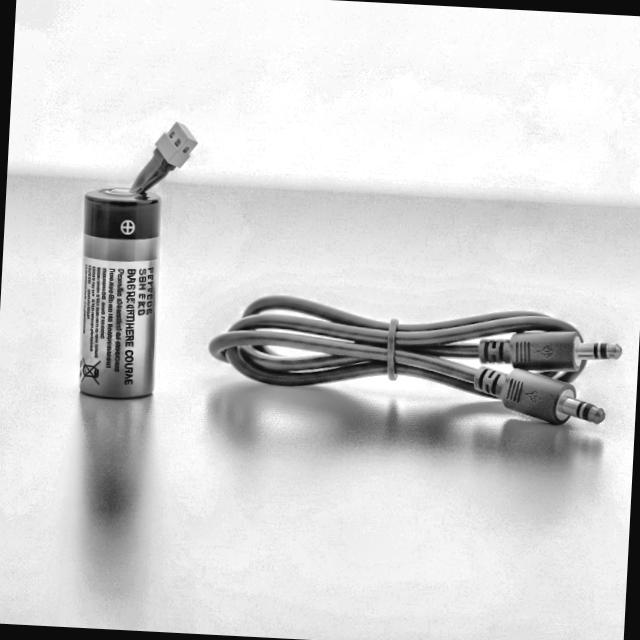Battery: (75, 188, 162, 400)
Cable: (205, 289, 624, 430), (122, 122, 200, 198)
